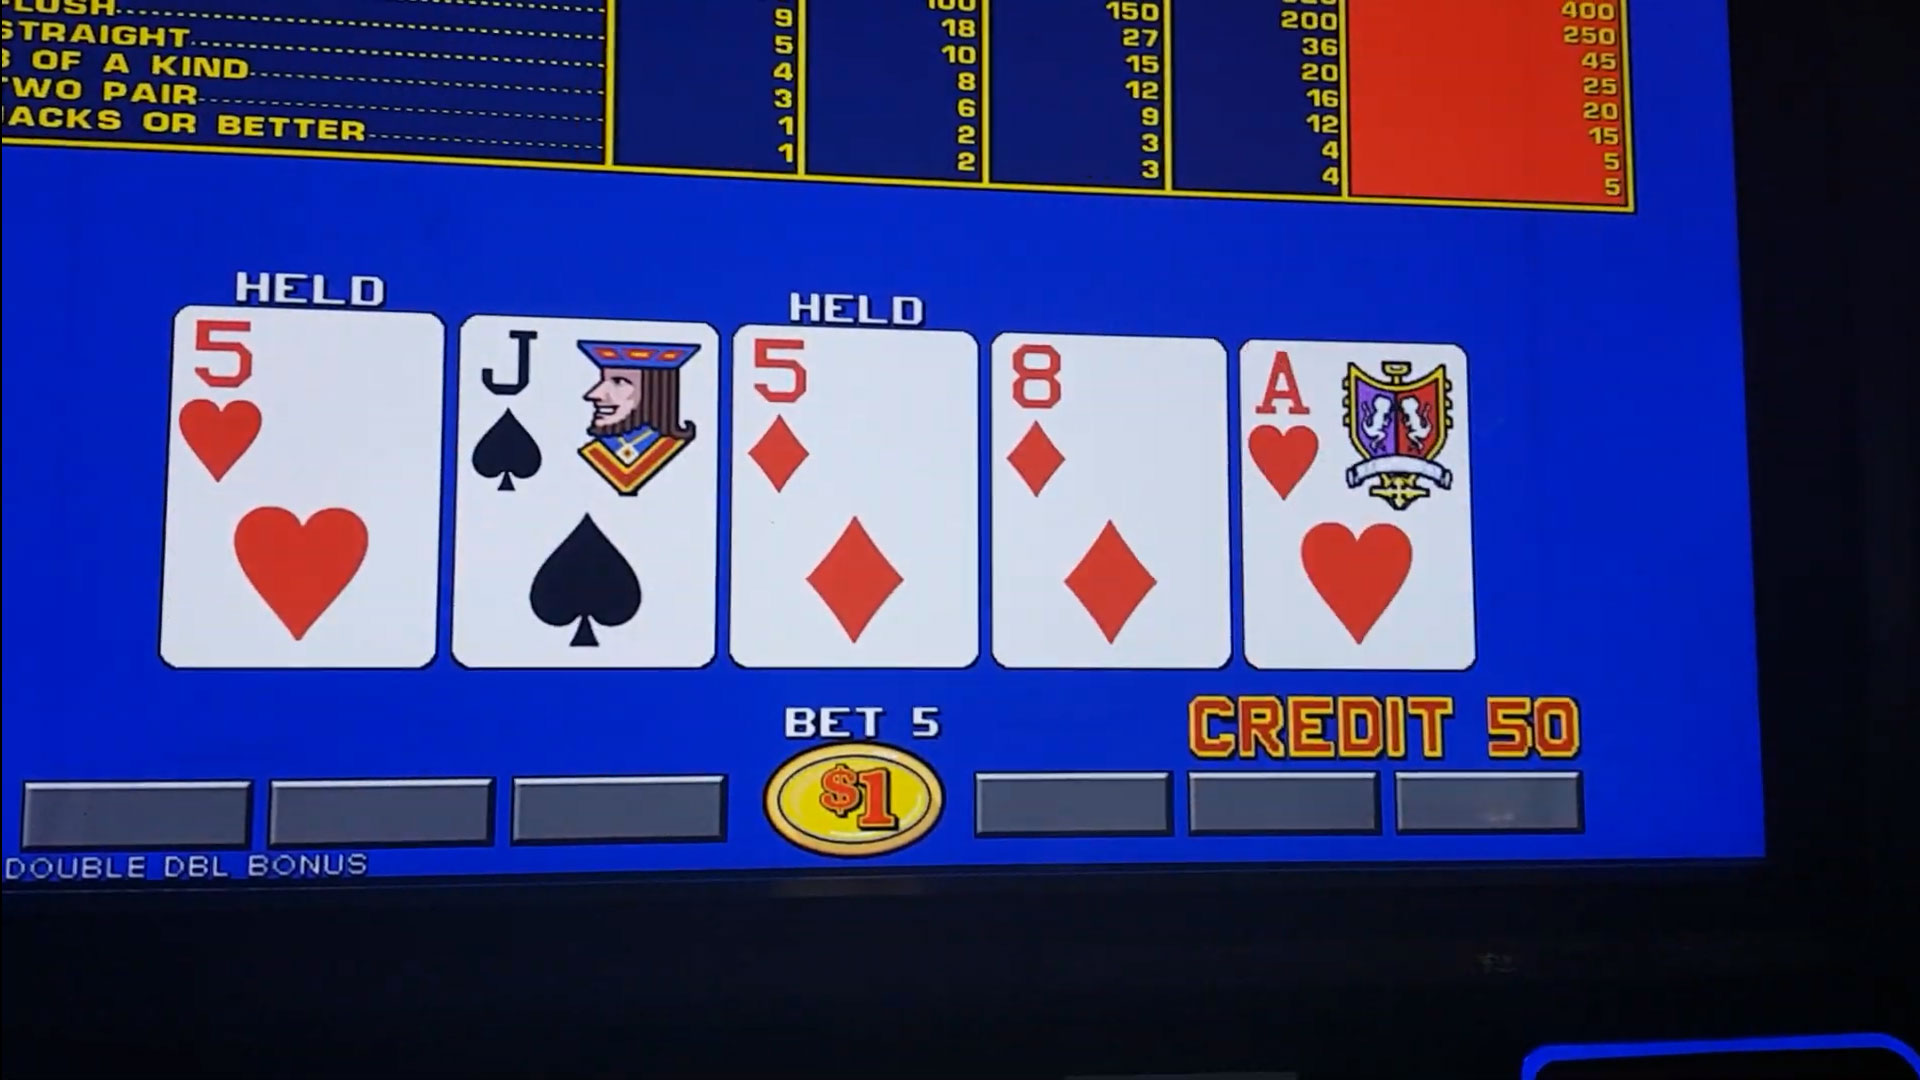D5: (742, 338, 972, 509)
D8: (997, 342, 1224, 512)
H5: (179, 320, 436, 487)
HA: (1246, 344, 1468, 505)
SJ: (464, 326, 713, 509)
